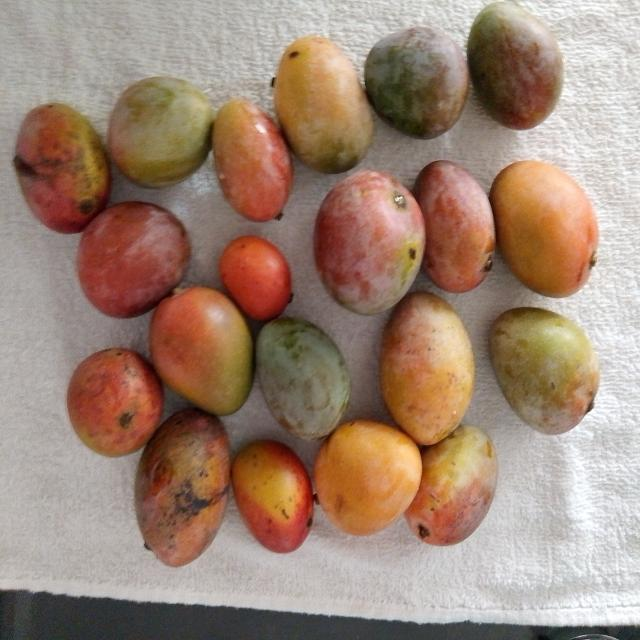mango: (314, 170, 424, 314), (135, 409, 230, 566), (490, 160, 598, 297), (380, 292, 474, 444), (490, 308, 599, 434), (274, 36, 373, 173), (149, 287, 253, 415), (14, 104, 110, 233), (314, 420, 421, 535), (467, 2, 563, 129), (108, 77, 213, 187), (365, 27, 469, 138), (256, 318, 350, 439), (405, 425, 497, 545), (414, 160, 495, 292), (67, 348, 163, 456), (212, 99, 293, 221), (232, 441, 313, 552)
